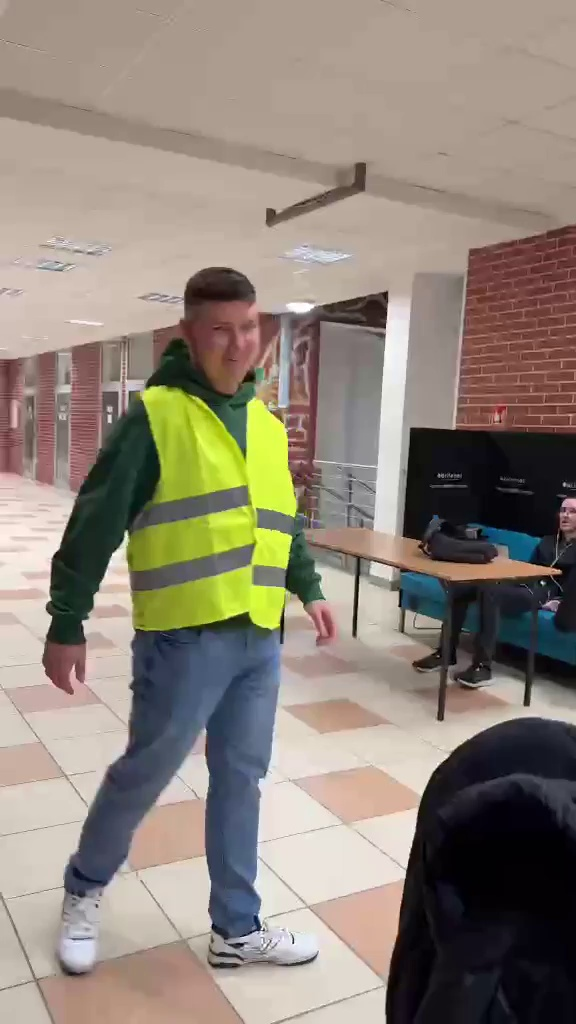no vest: (455, 486, 576, 692)
vest: (42, 263, 329, 964)
